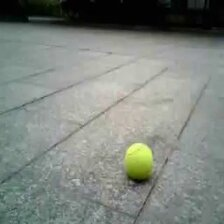tennis: (123, 144, 154, 179)
